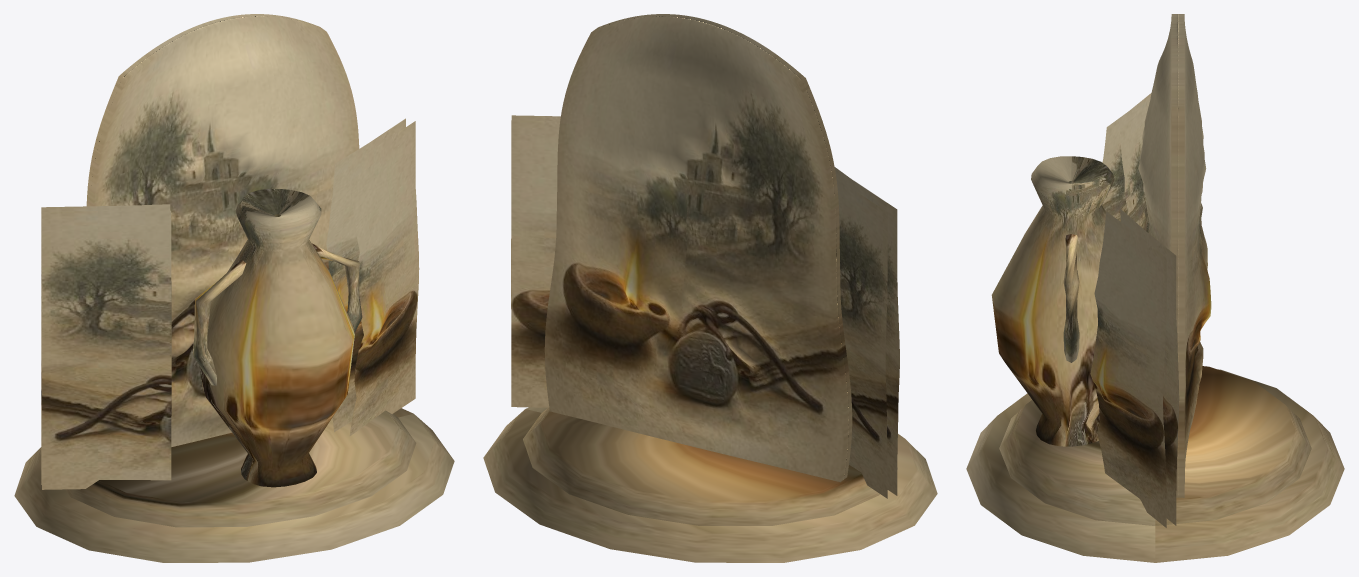
The model's file is many-waters-29.glb.
3 views of the same model, side by side, from view 1: azimuth 30°, elevation 25°; view 2: azimuth 150°, elevation 25°; view 3: azimuth 270°, elevation 25° (orthographic). The views are drawn at different scales.
Parts seen in each view (by area): view 1: PaintingSculptureMonument; view 2: PaintingSculptureMonument; view 3: PaintingSculptureMonument.
Part boxes in pixels (<box>): PaintingSculptureMonument: <box>14,14,454,562</box>; PaintingSculptureMonument: <box>483,14,937,562</box>; PaintingSculptureMonument: <box>966,14,1344,562</box>.
Size of the model in its own units: 2.76 by 2.99 by 2.35.
Materials: 1 (1 with a texture image).
